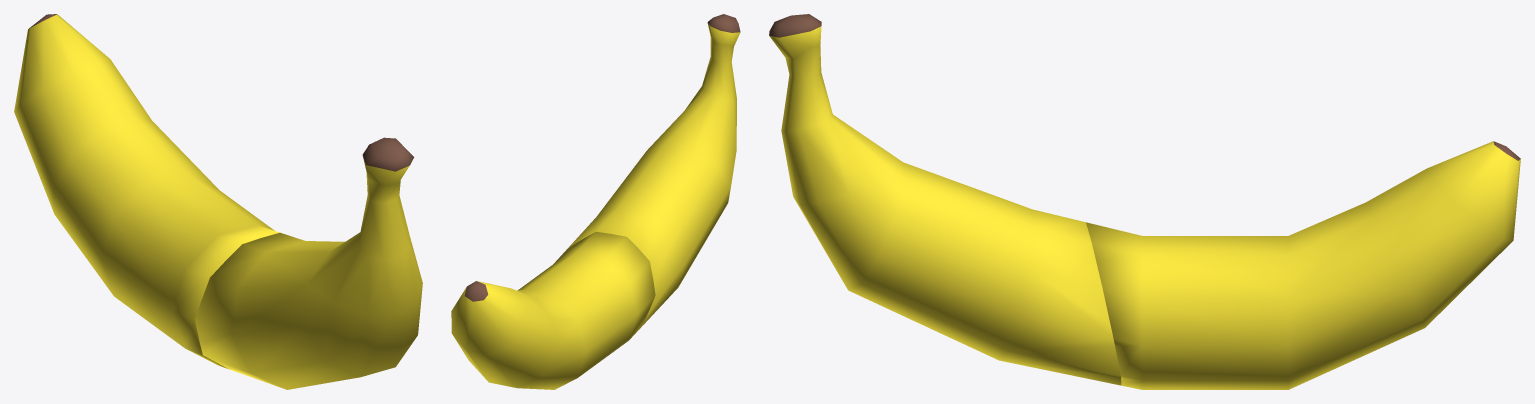
Rendered from banana.fbx.
3 views of the same model, side by side, from view 1: azimuth 30°, elevation 25°; view 2: azimuth 150°, elevation 25°; view 3: azimuth 270°, elevation 25° (orthographic). The views are drawn at different scales.
Parts seen in each view (by area): view 1: group1337751287.001, group1337751287; view 2: group1337751287.001, group1337751287; view 3: group1337751287.001, group1337751287.
Boxes of the visible parts, box(x1,y1,x2,y2) form: group1337751287.001: box(14, 14, 279, 368); group1337751287: box(195, 137, 422, 389); group1337751287.001: box(451, 231, 655, 389); group1337751287: box(569, 14, 740, 325); group1337751287.001: box(1086, 141, 1520, 389); group1337751287: box(769, 14, 1121, 385).
Size of the model in its own units: 59.01 by 145 by 278.
